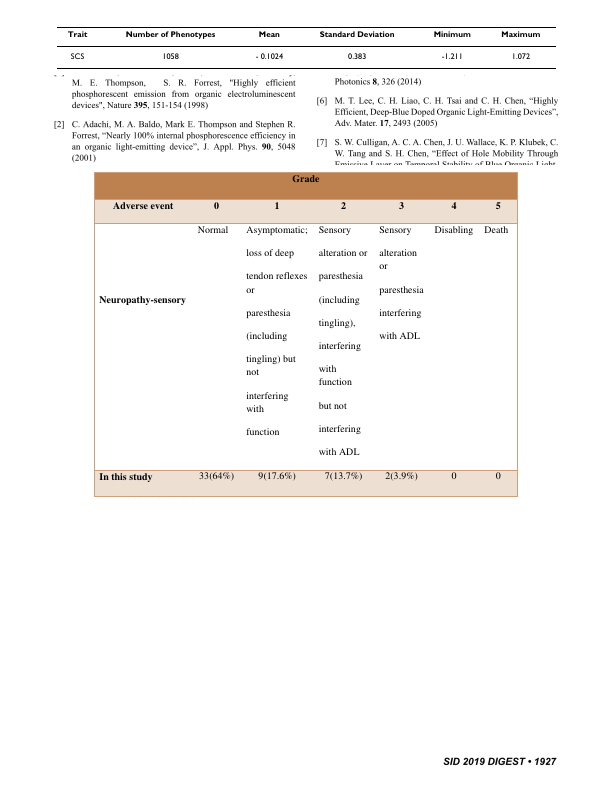bordered: (93, 171, 517, 496)
borderless: (56, 25, 556, 68)
cell: (245, 223, 309, 438), (318, 223, 368, 458), (378, 223, 425, 342), (98, 292, 187, 306), (112, 198, 174, 212), (124, 30, 216, 39), (98, 469, 154, 482), (318, 30, 395, 39), (434, 223, 474, 236), (257, 469, 297, 482), (324, 469, 363, 482), (198, 469, 235, 482), (384, 469, 419, 482), (197, 223, 229, 236), (291, 171, 320, 185), (500, 30, 541, 39), (432, 30, 471, 39), (483, 223, 509, 236), (254, 52, 284, 60), (257, 30, 280, 39), (66, 30, 88, 39), (440, 52, 463, 60), (510, 52, 531, 60), (347, 52, 367, 60), (161, 52, 179, 60), (69, 52, 85, 60), (213, 198, 220, 212), (274, 198, 281, 212), (340, 198, 347, 212), (398, 198, 405, 212), (450, 198, 457, 212), (495, 198, 502, 212), (450, 469, 457, 482), (495, 469, 502, 482)
